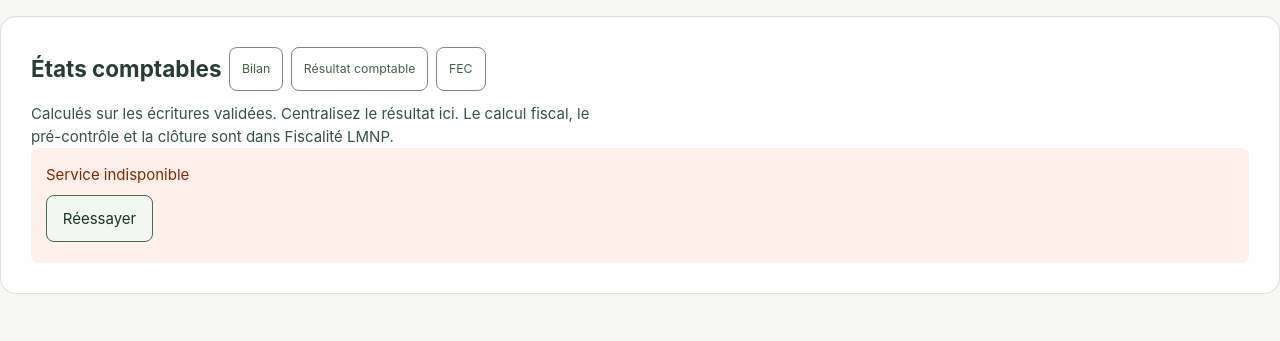
Test case: a setup failure is not an empty exercise and can be retried
expect the message shows "Service indisponible": met, box [46,165,189,184]
expect the text "Créez un exercice" is not shown: met
Click the button "Réessayer": [100, 218] box [46,195,153,242]
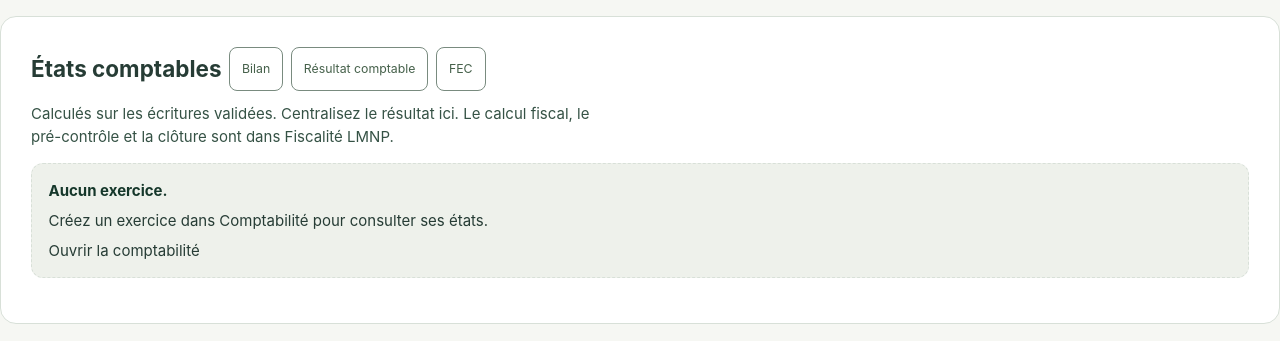
expect the text "Créez un exercice" is shown: met, box [48,211,488,230]
expect the message "Service indisponible Réessayer" is gone: met
